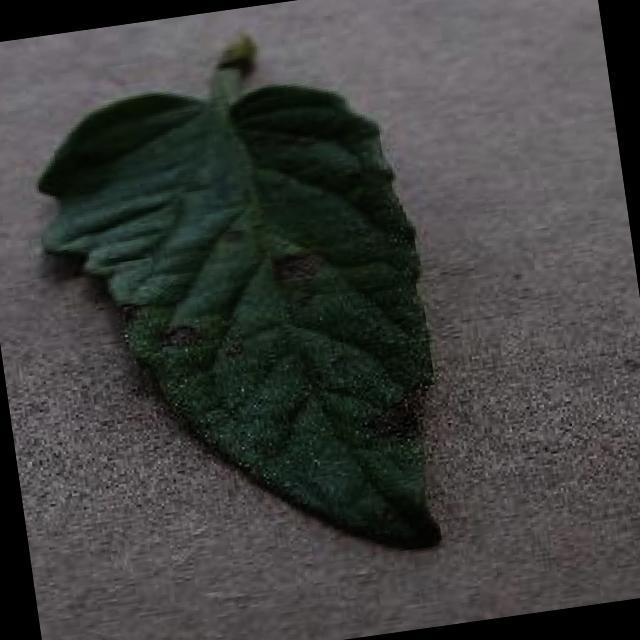Tomato Early blight leaf: (28, 58, 469, 597)
